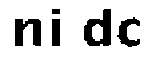c: (116, 16, 143, 50)
d: (81, 5, 115, 53)
i: (48, 5, 65, 52)
n: (13, 16, 43, 50)
